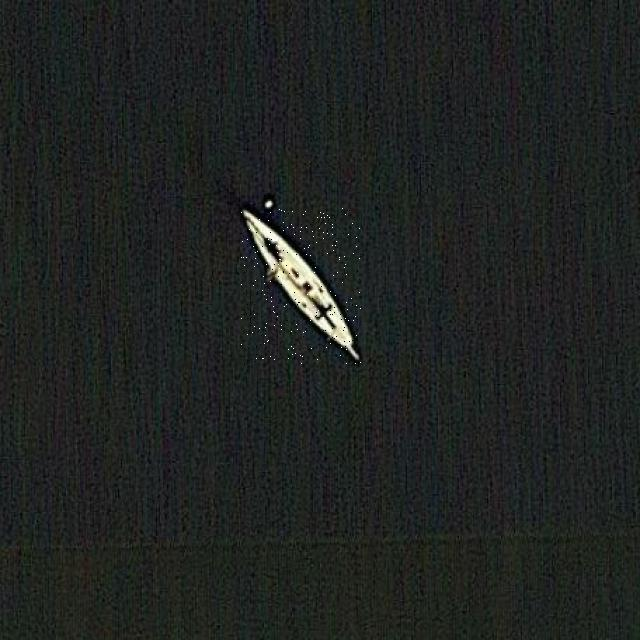boat: (241, 208, 361, 366)
